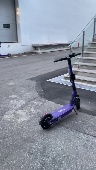beam: (40, 51, 88, 132)
